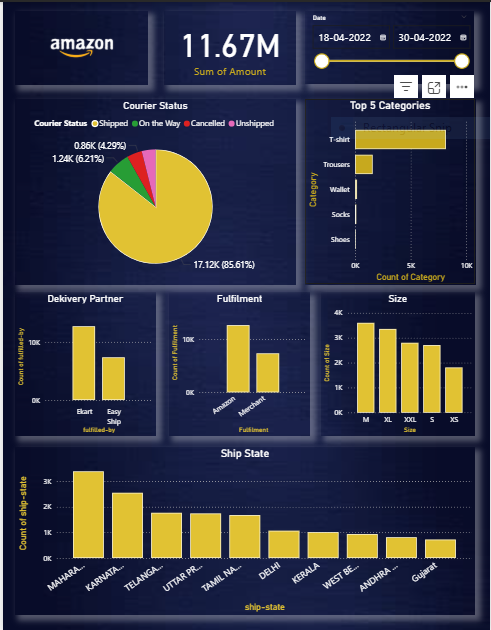

The dashboard page shown, as its layout file describes it:
{"tool":"powerbi","page":{"name":"Page 1","canvas":[816,1056],"ordinal":0},"visuals":[{"type":"image","box":[20,14.4,223.3,124.4],"z":0},{"type":"card","fields":{"Values":["Sum(Amazon Sale Report.Amount)"]},"box":[270,14.4,221.1,124.4],"z":1000},{"type":"slicer","fields":{"Values":["Amazon Sale Report.Date"]},"box":[506.7,15.6,284.4,123.3],"z":2000},{"type":"clusteredBarChart","title":"Top 5 Categories","fields":{"Category":["Amazon Sale Report.Category"],"Y":["CountNonNull(Amazon Sale Report.Category)"]},"box":[505.6,162.2,285.6,311.1],"z":3000},{"type":"pieChart","title":"Courier Status","fields":{"Category":["Amazon Sale Report.Courier Status"],"Y":["CountNonNull(Amazon Sale Report.Courier Status)"]},"box":[20,162.2,471.1,311.1],"z":4000},{"type":"columnChart","title":"Dekivery Partner","fields":{"Category":["Amazon Sale Report.fulfilled-by"],"Y":["CountNonNull(Amazon Sale Report.fulfilled-by)"]},"box":[20,486.7,235.6,241.1],"z":5000},{"type":"columnChart","title":"Fulfilment","fields":{"Category":["Amazon Sale Report.Fulfilment"],"Y":["CountNonNull(Amazon Sale Report.Fulfilment)"]},"box":[278.9,486.7,236.7,241.1],"z":6000},{"type":"columnChart","title":"Size","fields":{"Y":["CountNonNull(Amazon Sale Report.Size)"],"Category":["Amazon Sale Report.Size"]},"box":[533.3,486.7,257.8,241.1],"z":6001},{"type":"clusteredColumnChart","title":"Ship State","fields":{"Category":["Amazon Sale Report.ship-state"],"Y":["CountNonNull(Amazon Sale Report.ship-state)"]},"box":[20,745.6,771.1,281.1],"z":6002}]}

Visuals, with their boxes in screenshot pixels (x1, y1, x2, y2), scaled from the page's 816x1056 canvas onto the 491x630 screenshot:
image: rect(12, 9, 146, 83)
card - Sum(Amazon Sale Report.Amount): rect(162, 9, 296, 83)
slicer - Amazon Sale Report.Date: rect(305, 9, 476, 83)
"Top 5 Categories" clusteredBarChart: rect(304, 97, 476, 282)
"Courier Status" pieChart: rect(12, 97, 296, 282)
"Dekivery Partner" columnChart: rect(12, 290, 154, 434)
"Fulfilment" columnChart: rect(168, 290, 310, 434)
"Size" columnChart: rect(321, 290, 476, 434)
"Ship State" clusteredColumnChart: rect(12, 445, 476, 613)
